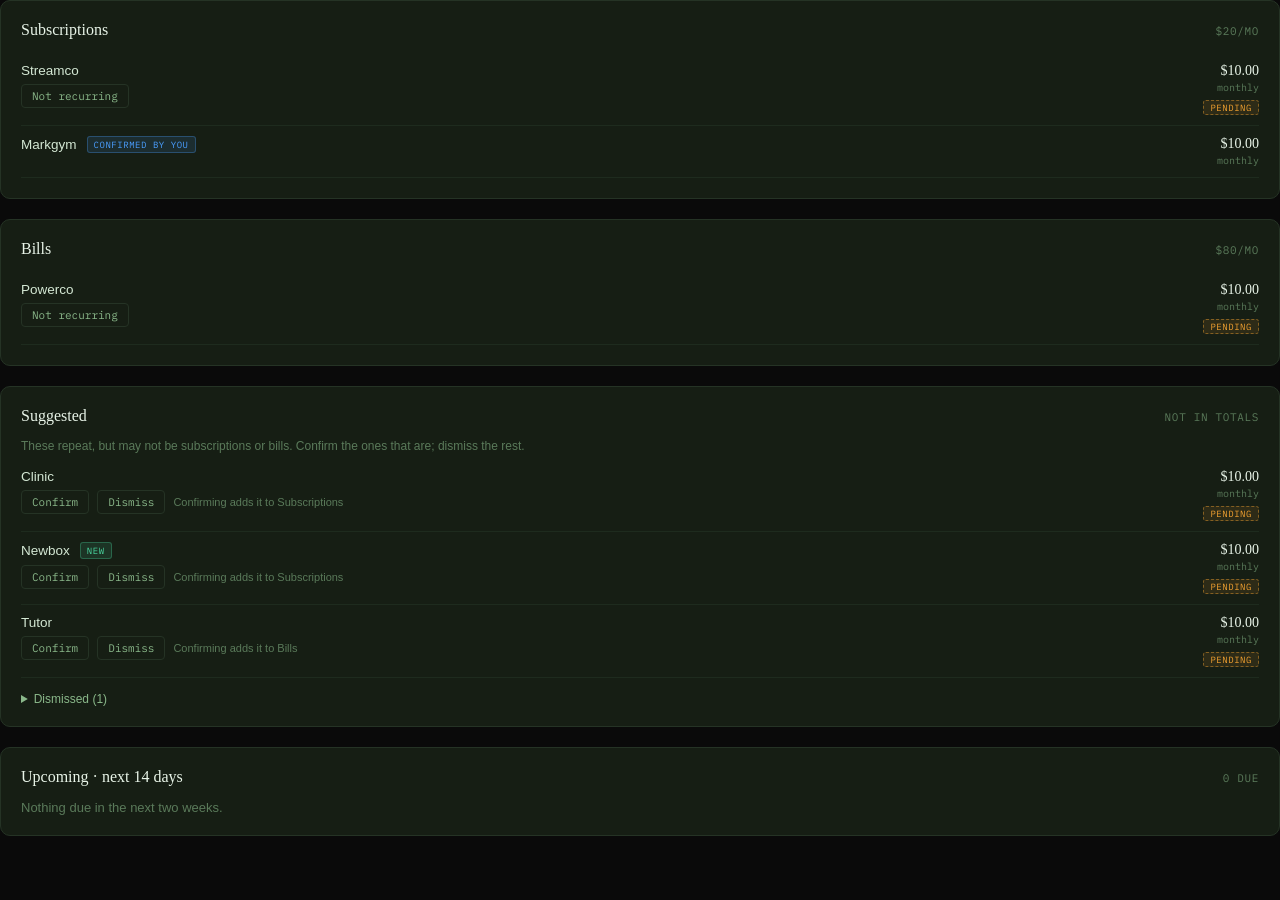
Test case: SubscriptionTracker › a refused write says why
The image size is (1280, 900).
What coordinates should you click on to do the following:
click the button "Confirm" below "Newbox"
I would click on:
 (55, 577)
Its box is [21,565,89,589].
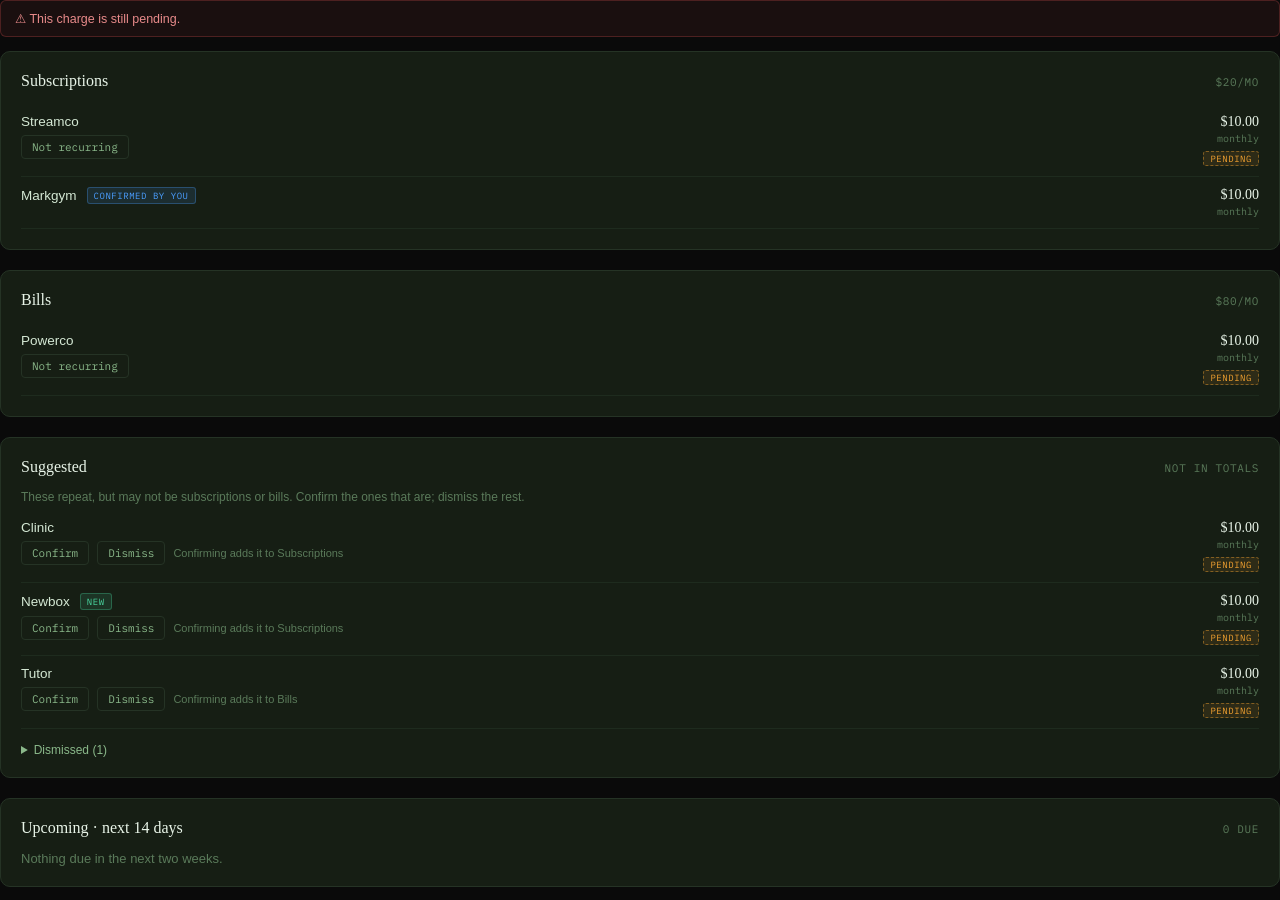
expect the message "⚠ This charge is still pending." is shown: met, box [0,0,1279,37]
